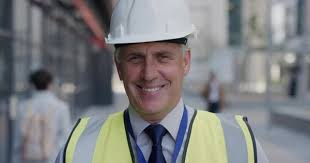Person_wearing_helmet: (99, 0, 200, 66)
